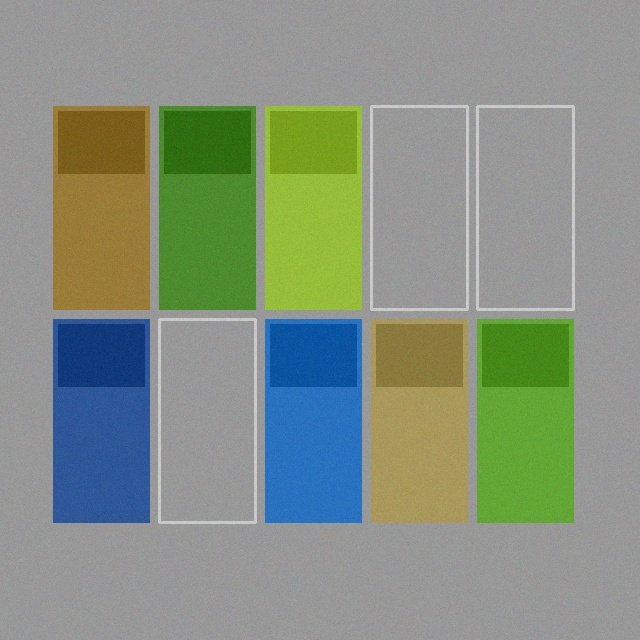space-empty: (371, 106, 467, 309), (477, 106, 573, 309), (159, 319, 255, 522)
space-occupied: (53, 106, 149, 309), (159, 106, 255, 309), (265, 106, 361, 309), (53, 319, 149, 522), (265, 319, 361, 522), (371, 319, 467, 522), (477, 319, 573, 522)
